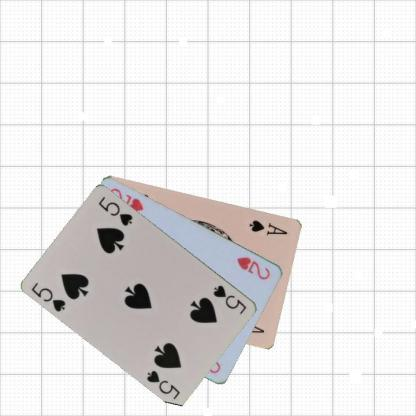2h: (234, 254, 272, 282)
5s: (29, 280, 67, 313), (211, 282, 248, 315)
As: (247, 218, 289, 236)
